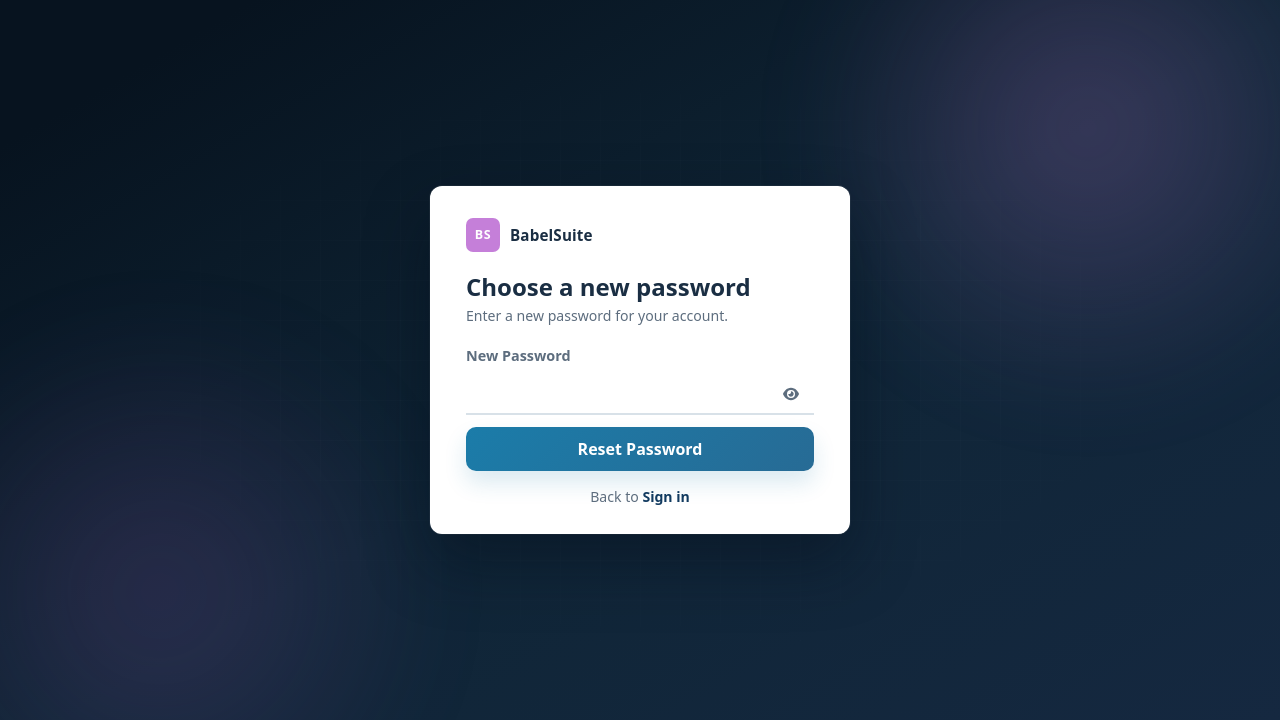
it: ResetPassword › shows error message on failure
The width and height of the screenshot is (1280, 720).
In the password field labelled "New Password": point(640, 394) 466,373 -> 814,415, type "pass"
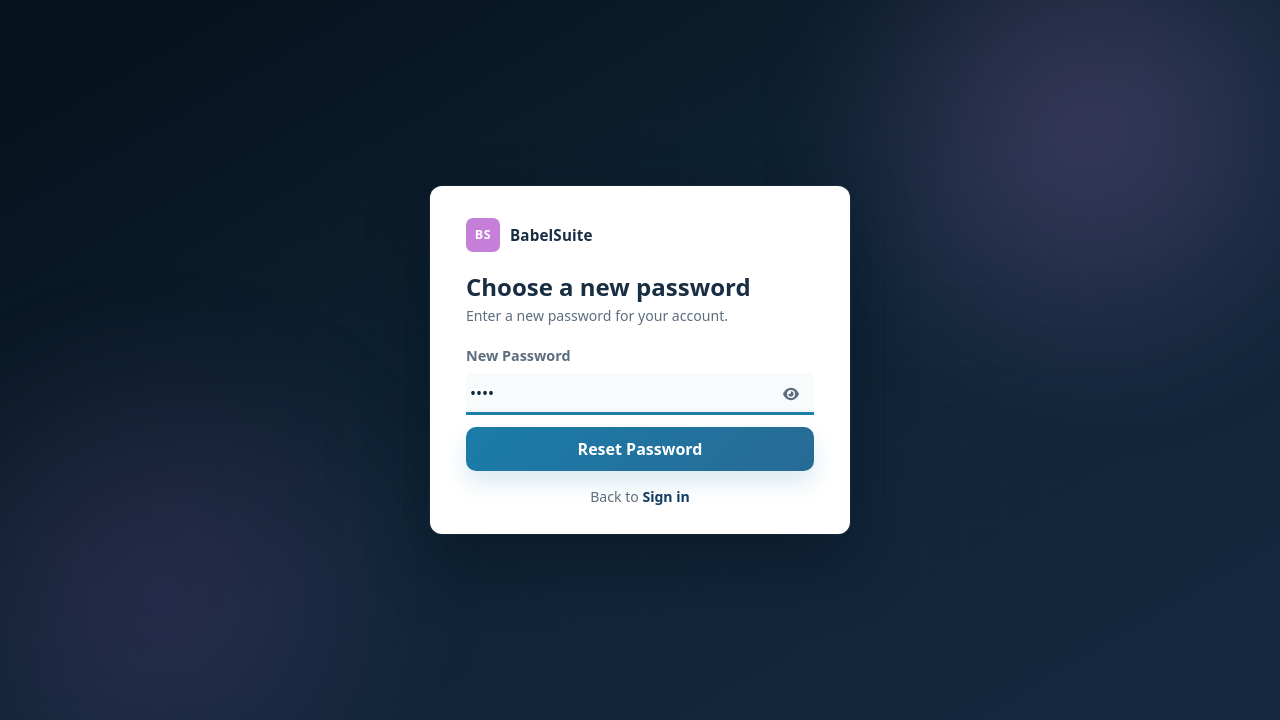
Click the button "Reset Password": point(640, 449) 466,427 -> 814,471
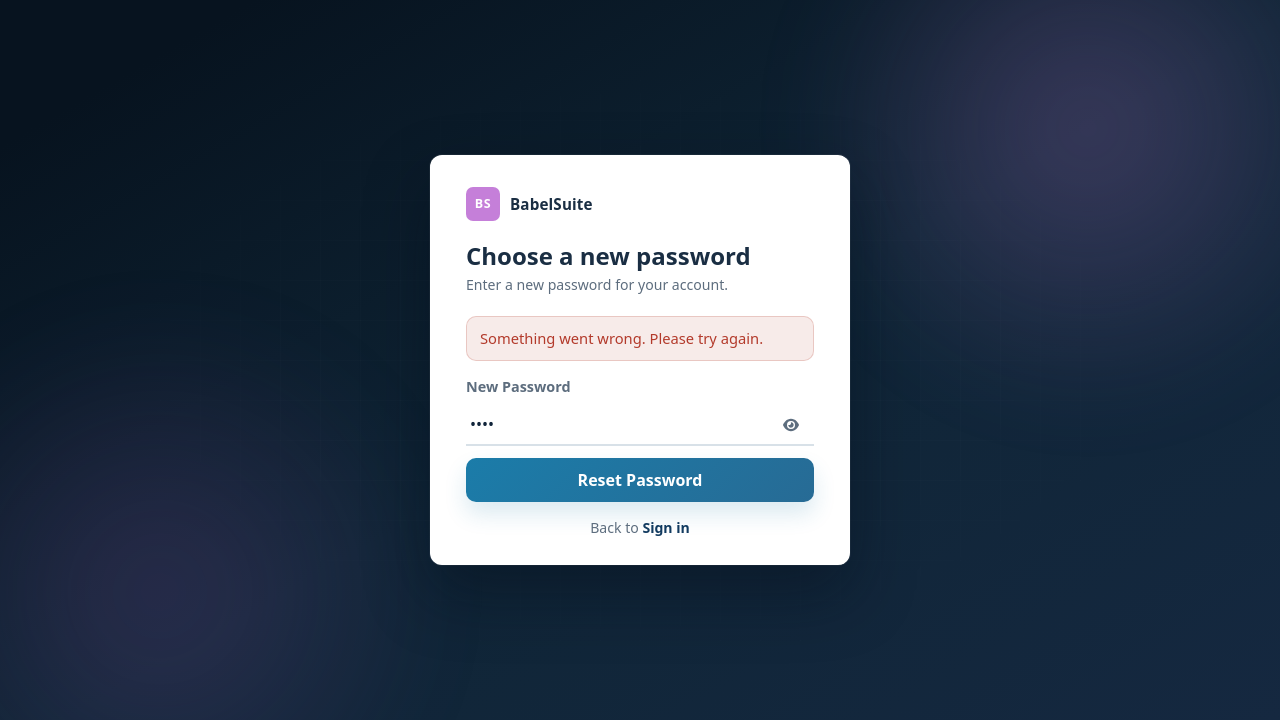
Expected: the text "Something went wrong. Please try again." is shown, 466,316 -> 814,361
